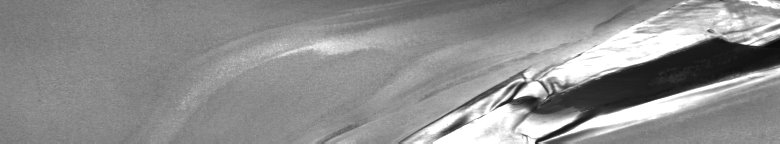ke: (412, 4, 776, 136)
